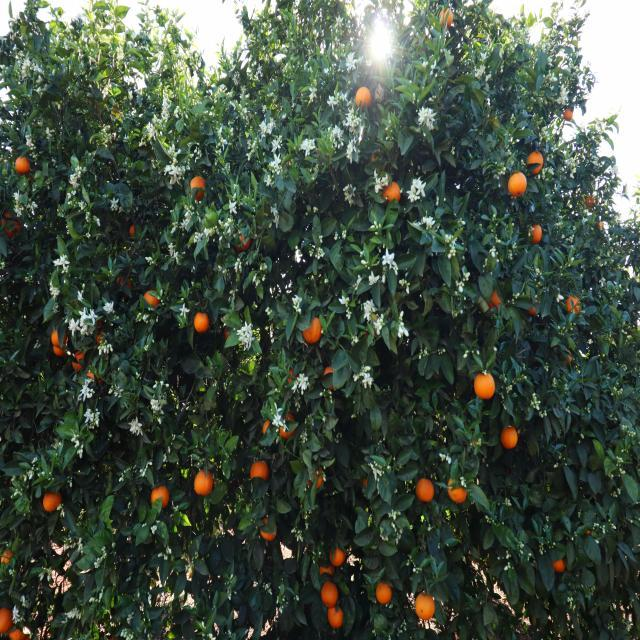Bunga: (129, 417, 141, 437), (78, 383, 92, 400), (414, 180, 426, 198), (58, 253, 70, 270), (70, 318, 81, 334), (425, 108, 435, 125), (298, 374, 308, 391), (346, 54, 356, 70), (382, 248, 392, 264), (388, 253, 398, 269), (374, 172, 382, 192), (179, 302, 189, 318), (78, 308, 88, 324), (50, 282, 60, 298), (68, 176, 80, 189), (326, 95, 337, 109), (169, 166, 180, 180), (369, 271, 379, 286), (366, 298, 376, 313), (272, 412, 282, 427), (150, 395, 160, 410), (398, 324, 408, 338), (348, 138, 358, 152), (332, 124, 342, 138), (301, 141, 311, 155), (87, 310, 97, 324), (362, 372, 372, 386), (362, 303, 370, 320), (423, 215, 433, 228), (242, 321, 252, 334), (238, 331, 248, 344), (104, 301, 114, 314), (84, 408, 94, 421), (418, 106, 426, 122), (173, 148, 181, 164), (373, 320, 382, 334), (272, 152, 282, 164), (270, 140, 280, 152), (170, 175, 182, 185), (110, 197, 119, 210), (407, 186, 415, 200), (228, 200, 236, 214), (184, 207, 194, 218), (309, 87, 318, 99), (246, 336, 255, 348), (80, 324, 89, 336), (162, 98, 171, 110), (341, 92, 349, 105), (272, 215, 280, 228), (340, 296, 350, 306), (264, 178, 274, 188), (68, 319, 74, 335), (162, 110, 170, 122), (381, 174, 388, 187), (194, 232, 203, 242), (180, 219, 189, 229), (346, 115, 354, 126), (274, 164, 282, 175), (258, 118, 266, 129), (220, 139, 228, 150), (292, 294, 300, 304), (294, 304, 302, 314), (353, 116, 361, 126), (345, 110, 355, 118), (308, 140, 316, 150), (266, 124, 274, 134), (260, 128, 266, 140), (270, 207, 278, 216), (256, 64, 262, 76), (168, 242, 174, 254), (172, 248, 178, 260), (76, 166, 82, 178), (168, 144, 175, 154), (78, 200, 85, 210), (53, 259, 60, 269), (205, 228, 212, 237), (261, 105, 267, 113)
Jeruk Sudah Matang: (473, 374, 496, 400), (416, 594, 436, 620), (304, 318, 324, 344), (416, 478, 437, 502), (506, 172, 526, 197), (322, 580, 340, 606), (195, 472, 214, 496), (328, 607, 348, 629), (377, 582, 395, 606), (501, 426, 519, 449), (41, 490, 60, 510), (356, 85, 374, 106), (565, 293, 583, 314), (487, 288, 504, 310), (193, 312, 210, 333), (250, 462, 270, 479), (5, 218, 22, 238), (384, 184, 402, 202), (153, 486, 171, 504), (144, 290, 162, 308), (528, 224, 544, 244), (14, 157, 31, 175), (450, 486, 468, 503), (190, 176, 207, 193), (236, 235, 253, 252), (332, 549, 348, 567), (580, 192, 597, 208), (0, 608, 12, 630), (49, 330, 62, 350), (440, 9, 456, 25), (118, 274, 134, 290), (528, 152, 544, 167), (278, 427, 294, 442), (260, 528, 276, 542), (53, 344, 67, 360), (554, 559, 568, 574), (319, 563, 334, 577), (70, 356, 82, 372), (260, 418, 272, 434), (2, 210, 13, 227), (2, 551, 15, 565), (564, 107, 578, 120), (526, 303, 540, 316), (128, 223, 140, 238), (94, 332, 106, 347), (370, 154, 383, 167), (10, 628, 24, 640)
